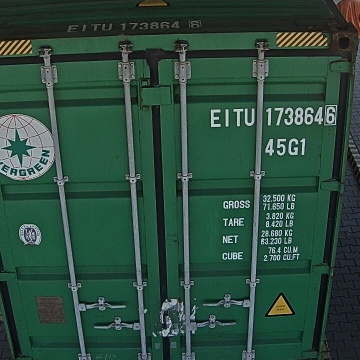serial_id: (210, 105, 336, 127)
